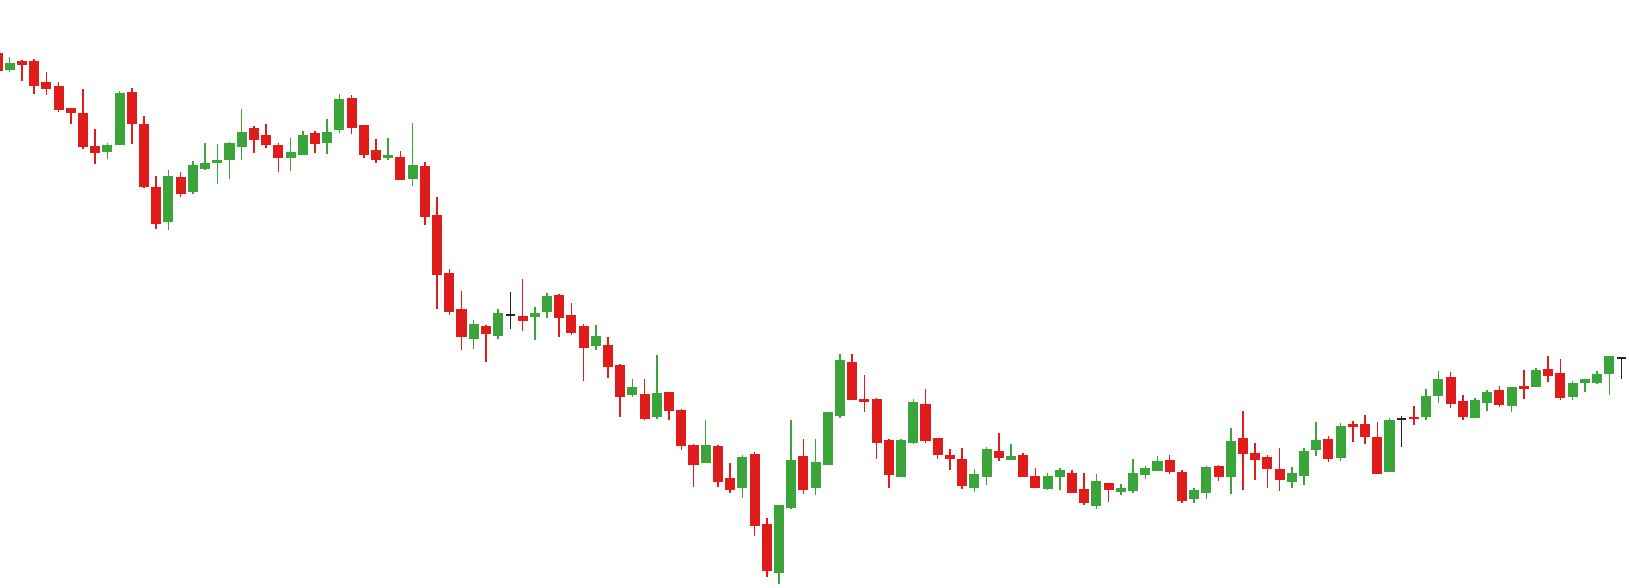buy: (1323, 426, 1399, 481)
sell: (237, 93, 360, 146)
